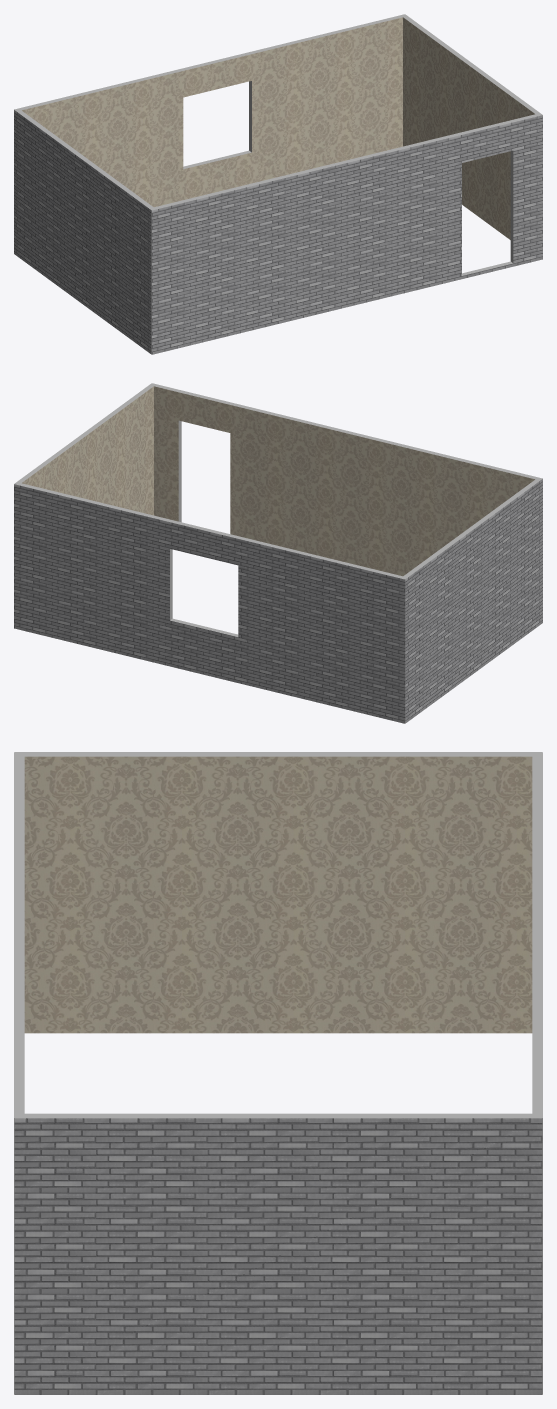
3 views of the same model, one above another, from view 1: azimuth 30°, elevation 25°; view 2: azimuth 150°, elevation 25°; view 3: azimuth 270°, elevation 25° (orthographic). The views are drawn at different scales.
Visible parts, largest first — view 1: WallOutside#0_0_2, WallInside#0_0_0, WallOutside#0_0_3, WallInside#0_0_1, WallInside#0_0_2, WallOutside#0_0_0, WallOutside#0_0_1, WallInside#0_0_3; view 2: WallOutside#0_0_0, WallInside#0_0_2, WallOutside#0_0_3, WallInside#0_0_1, WallInside#0_0_0, WallOutside#0_0_2, WallOutside#0_0_1, WallInside#0_0_3; view 3: WallOutside#0_0_1, WallInside#0_0_3, WallOutside#0_0_0, WallOutside#0_0_2, WallInside#0_0_0, WallInside#0_0_2, WallInside#0_0_1, WallOutside#0_0_3.
Boxes of the visible parts, x1,y1,x2,y2 form: WallOutside#0_0_2: [151, 115, 542, 354]; WallInside#0_0_0: [18, 15, 406, 207]; WallOutside#0_0_3: [14, 109, 152, 354]; WallInside#0_0_1: [403, 16, 540, 239]; WallInside#0_0_2: [149, 114, 536, 274]; WallOutside#0_0_0: [14, 14, 405, 167]; WallOutside#0_0_1: [404, 14, 542, 115]; WallInside#0_0_3: [16, 109, 154, 208]; WallOutside#0_0_0: [14, 484, 405, 723]; WallInside#0_0_2: [150, 384, 538, 576]; WallOutside#0_0_3: [404, 478, 542, 723]; WallInside#0_0_1: [16, 384, 155, 515]; WallInside#0_0_0: [19, 483, 407, 635]; WallOutside#0_0_2: [153, 383, 542, 522]; WallOutside#0_0_1: [14, 383, 153, 484]; WallInside#0_0_3: [403, 478, 540, 578]; WallOutside#0_0_1: [14, 1115, 542, 1394]; WallInside#0_0_3: [15, 754, 541, 1033]; WallOutside#0_0_0: [537, 752, 542, 1394]; WallOutside#0_0_2: [14, 752, 19, 1394]; WallInside#0_0_0: [532, 752, 537, 1117]; WallInside#0_0_2: [19, 752, 24, 1117]; WallInside#0_0_1: [14, 1113, 542, 1115]; WallOutside#0_0_3: [15, 752, 541, 754].
Bounding box in the file's own units: 7.76 × 2.73 × 4.74.
12 materials, 8 textured.
